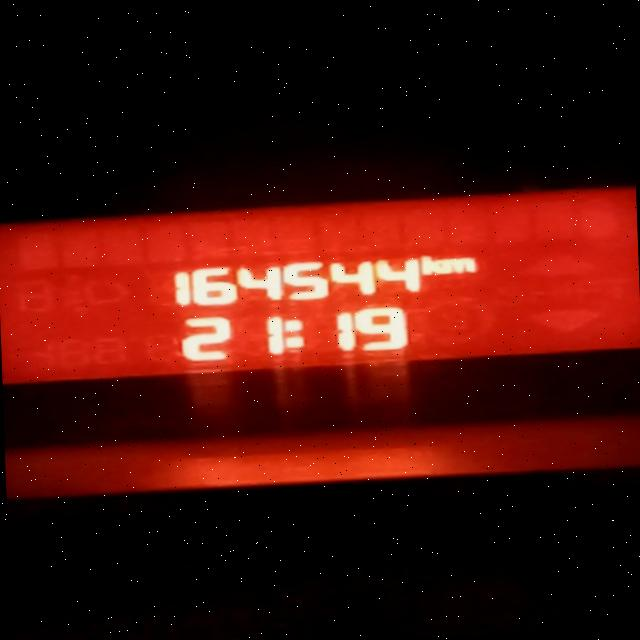odometer: (117, 240, 504, 369)
